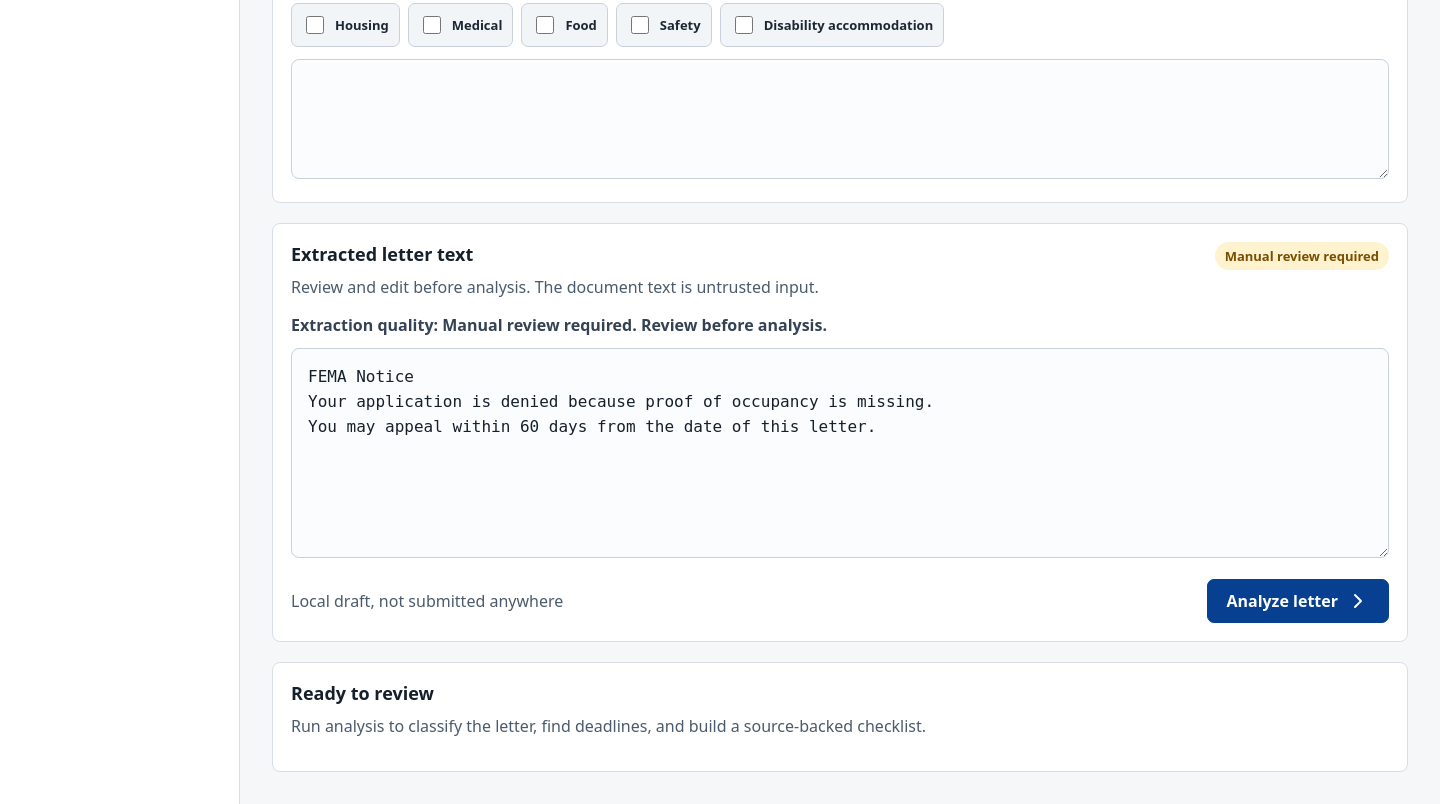
it: OpenRelief web workflow › shows escalation panel before letter summary for high-risk flags
This screenshot has width=1440, height=804.
(page scrolled)
Click the button "Analyze letter": (1298, 601) [1207,579,1389,623]
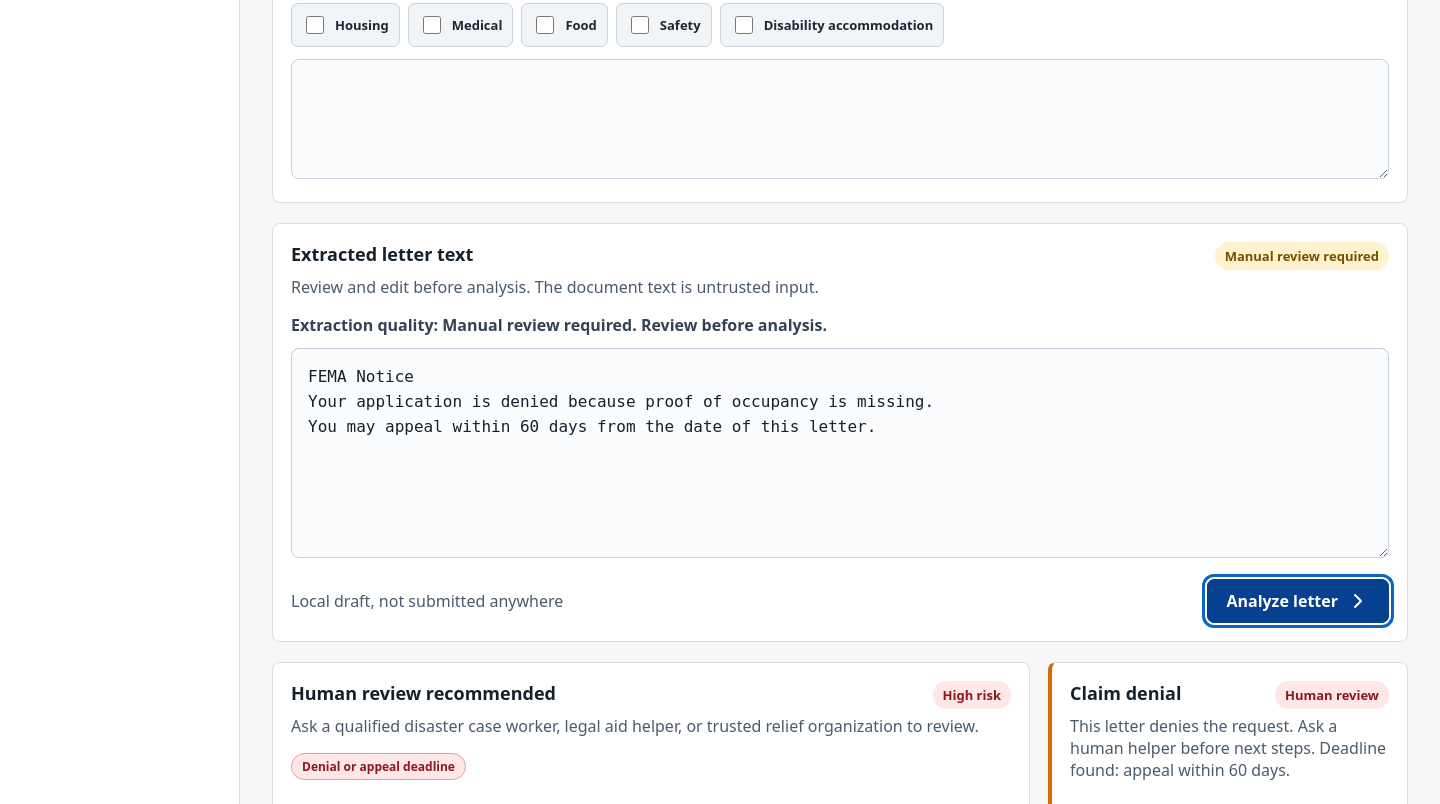
Expected: the text "Denial or appeal deadline" is shown, [291,753,466,780]
